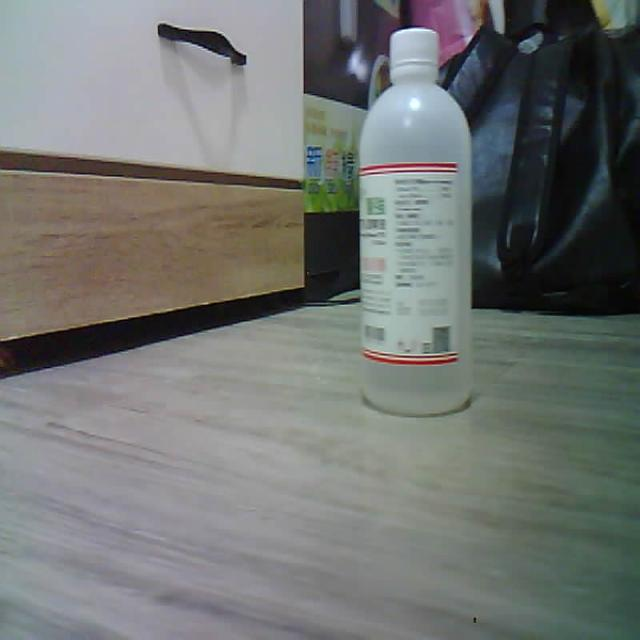bottle: (359, 28, 471, 415)
